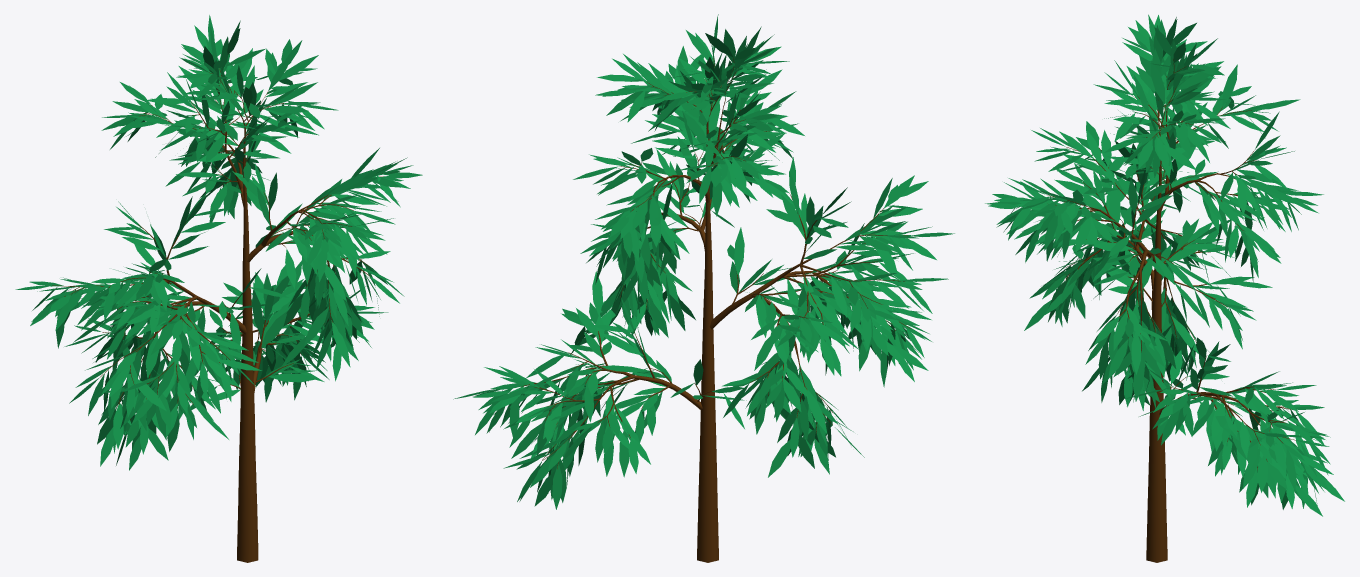
Rendered from BasicShrubery1.fbx.
3 views of the same model, side by side, from view 1: azimuth 30°, elevation 25°; view 2: azimuth 150°, elevation 25°; view 3: azimuth 270°, elevation 25° (orthographic). The views are drawn at different scales.
Parts seen in each view (by area): view 1: tree; view 2: tree; view 3: tree.
Part boxes in pixels (x1=…): tree: x1=15, y1=15, x2=422, y2=562; tree: x1=453, y1=14, x2=954, y2=562; tree: x1=985, y1=14, x2=1344, y2=562.
Bounding box in the file's own units: 100 × 127 × 78.68.
